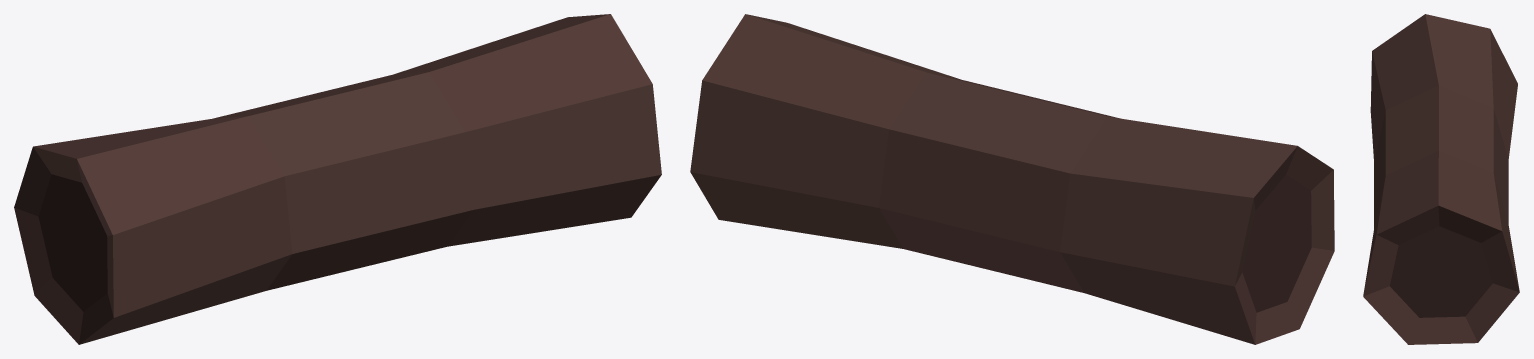
Rendered from Piece of wood.fbx.
3 renders of one model, left to right at view 1: azimuth 30°, elevation 25°; view 2: azimuth 150°, elevation 25°; view 3: azimuth 270°, elevation 25°, orthographic. The views are drawn at different scales.
Parts seen in each view (by area): view 1: Cylinder.013; view 2: Cylinder.013; view 3: Cylinder.013.
Part boxes in pixels (x1,y1,x2,y2): Cylinder.013: (14, 14, 661, 344); Cylinder.013: (690, 14, 1334, 344); Cylinder.013: (1363, 14, 1519, 344).
Size of the model in its own units: 0.9578 by 0.3211 by 0.324.
